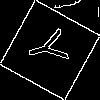Y: (25, 25, 78, 70)
